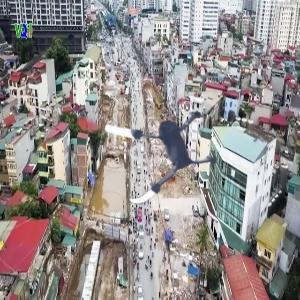drone: (97, 81, 230, 214)
